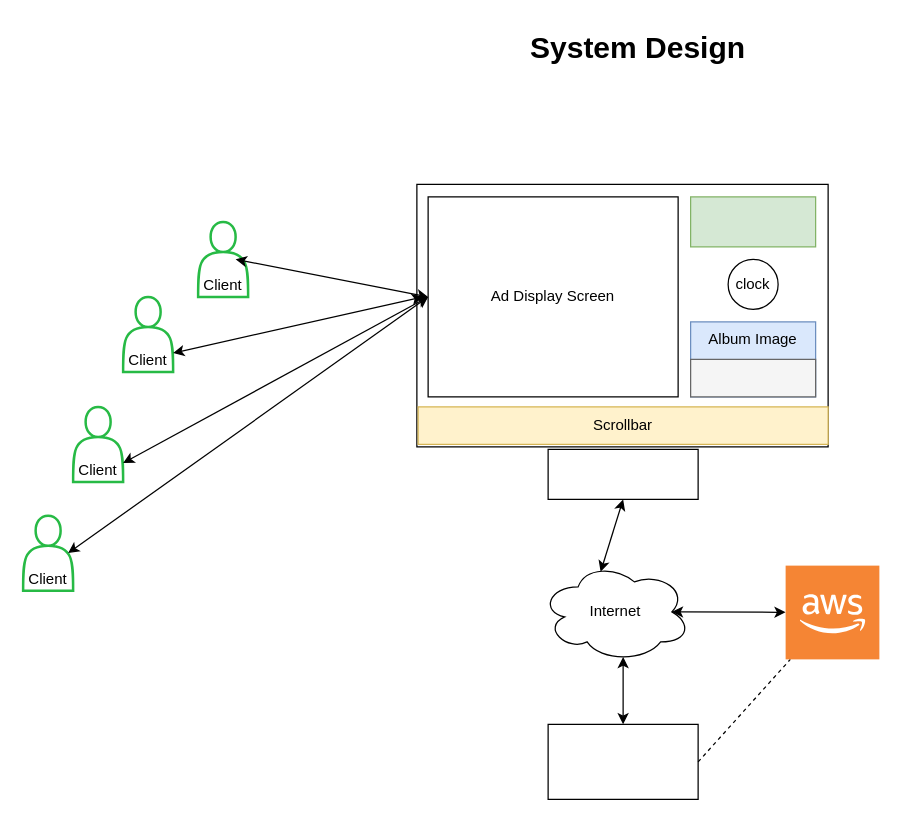
The diagram is 901 pixels wide and 821 high, and some of its shapes have lost their labels. The shapes that lost their labels are listed below. From the top down, each one's centre as x and y in pixels, then its label:
At point (752, 221): "Logo".
At point (752, 377): "Artist Info".
At point (622, 473): "PI".
At point (622, 761): "Balena".
